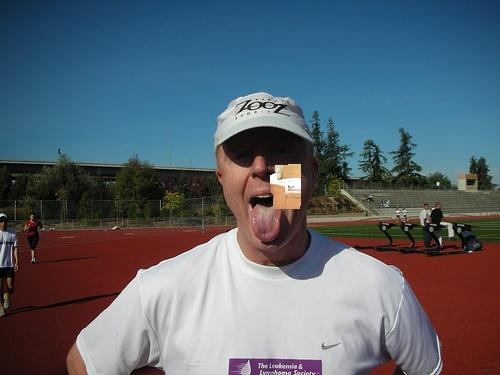tampered: (271, 165, 301, 209)
